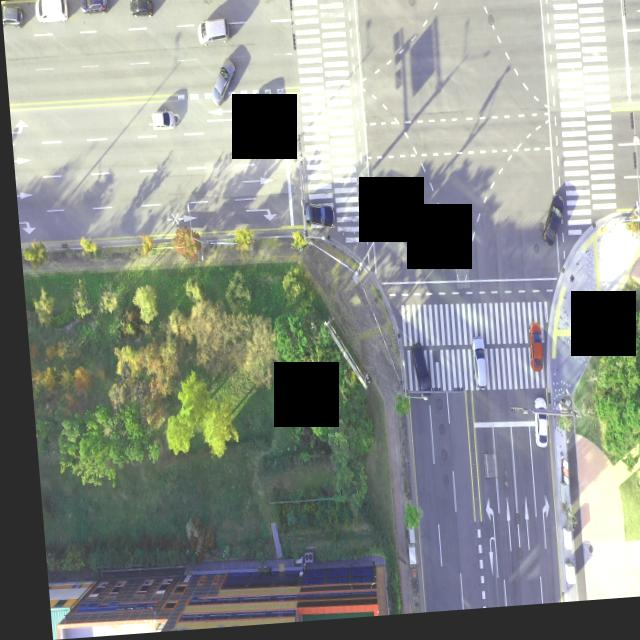car: (206, 58, 238, 114), (536, 196, 564, 254), (519, 327, 538, 388), (196, 16, 228, 48), (404, 346, 424, 395), (523, 403, 541, 457), (242, 95, 274, 123), (300, 208, 331, 236), (464, 342, 481, 393), (0, 1, 28, 31), (34, 0, 69, 22), (126, 0, 156, 22), (150, 112, 175, 135), (83, 0, 110, 18)
